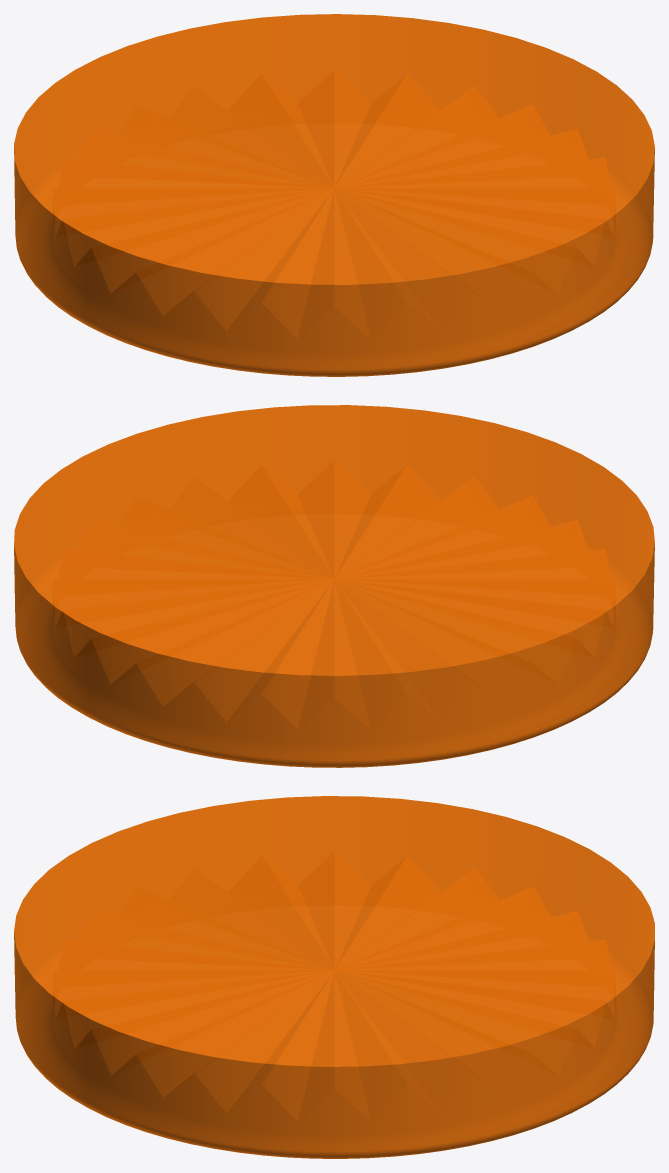
The model's file is Insert 1.5' Round, Starbust (PL-112ROT).fbx.
3 views of the same model, one above another, from view 1: azimuth 30°, elevation 25°; view 2: azimuth 150°, elevation 25°; view 3: azimuth 270°, elevation 25° (orthographic).
Visible parts, largest first — view 1: Insert 1.5' Round (PL-112ROT); view 2: Insert 1.5' Round (PL-112ROT); view 3: Insert 1.5' Round (PL-112ROT).
Part boxes in pixels (x1=…): Insert 1.5' Round (PL-112ROT): x1=14, y1=14, x2=654, y2=376; Insert 1.5' Round (PL-112ROT): x1=14, y1=405, x2=654, y2=767; Insert 1.5' Round (PL-112ROT): x1=14, y1=796, x2=654, y2=1158.
Size of the model in its own units: 3.81 by 0.635 by 3.81.
